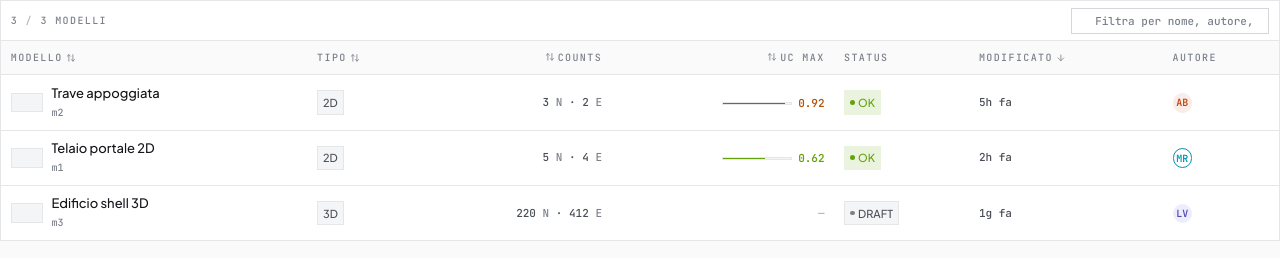
Test case: ModelsTable › filter input narrows visible rows
The width and height of the screenshot is (1280, 258).
Type "trave" into the field with test id "models-filter" at (1170, 20), box [1071,8,1269,34]
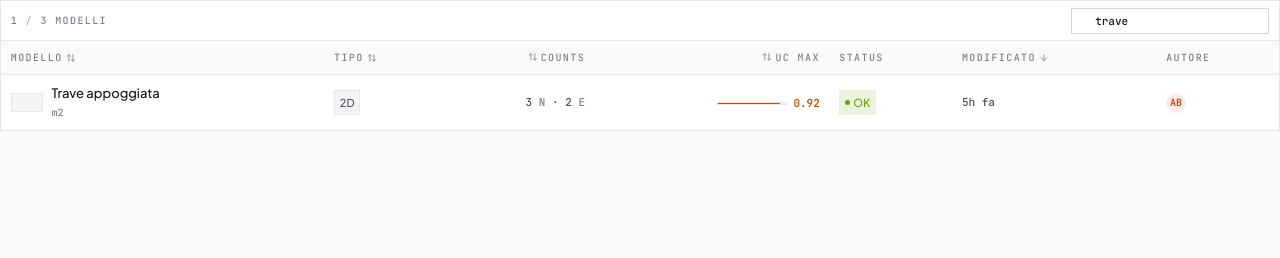
Expected: the row with test id "models-row-m2" is shown, [1,75,1279,130]
Result: the row with test id "models-row-m1" is gone
Result: the row with test id "models-row-m3" is gone
